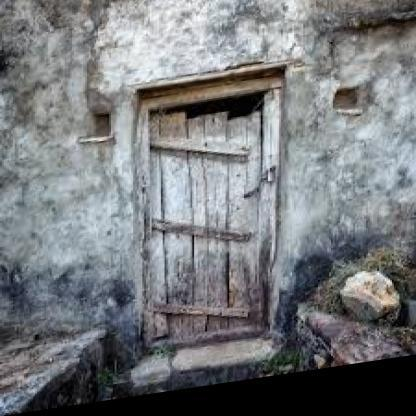door: (138, 63, 282, 352)
